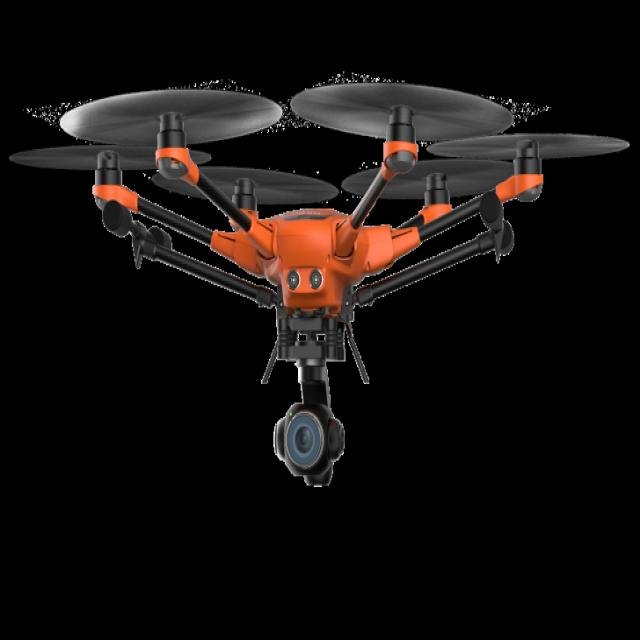drone: (12, 44, 640, 512)
